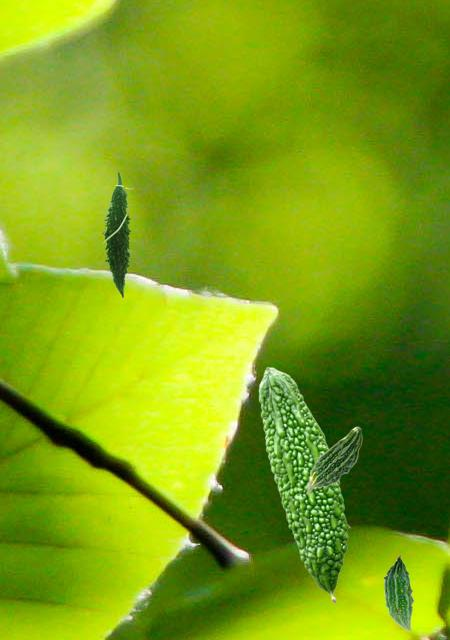ampalaya: (258, 366, 351, 603), (101, 170, 135, 298), (306, 426, 363, 494), (382, 554, 414, 632)
